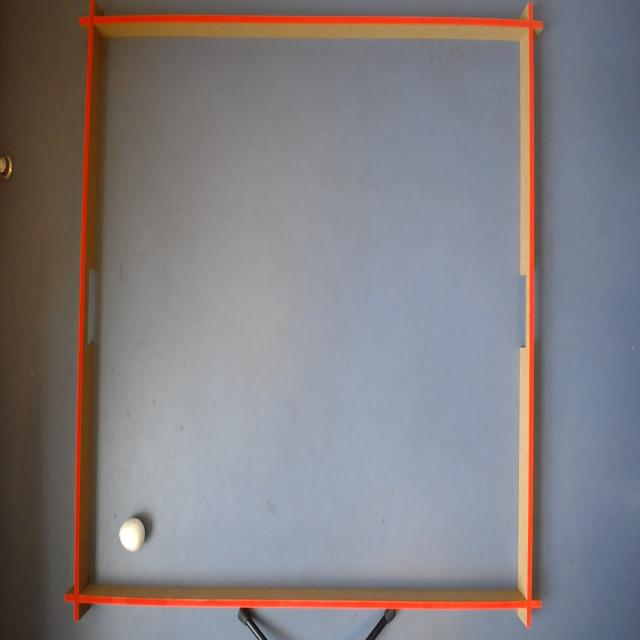egg: (118, 517, 146, 554)
